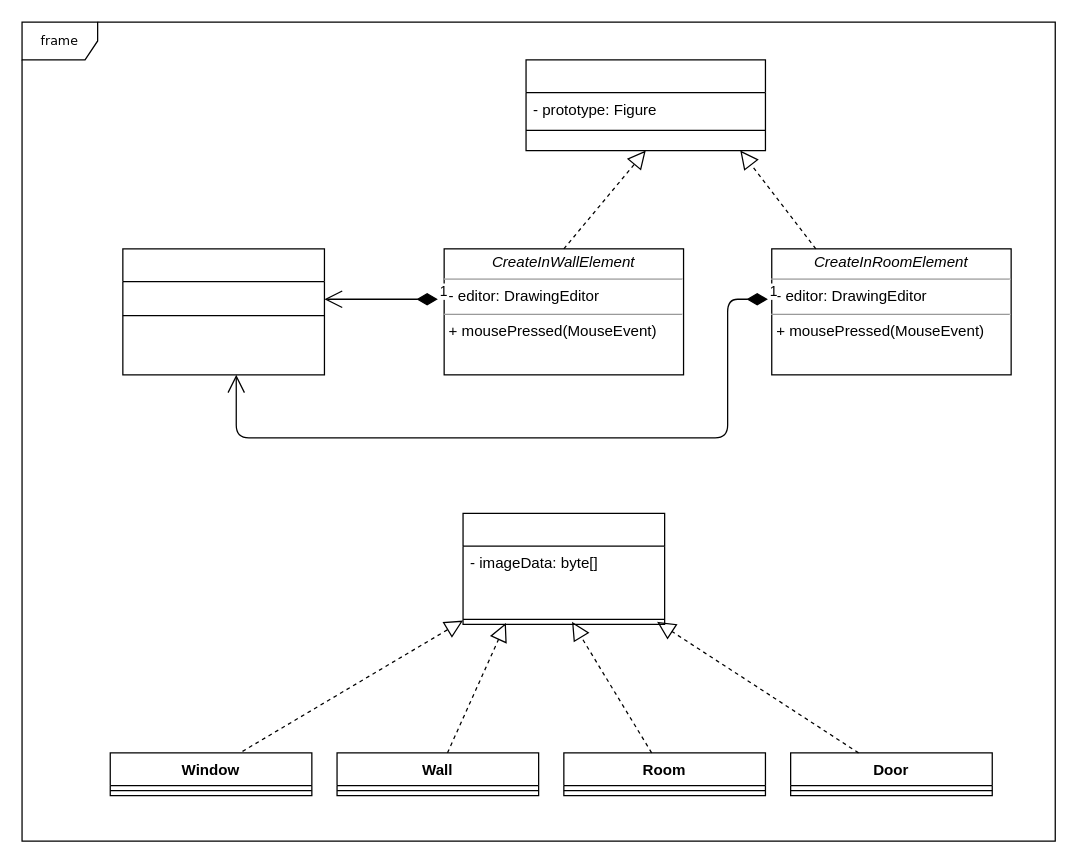
Some shapes in this 1077 by 863 pixel diagram are drawn without their labels. Each missing label, with the box of its shape:
<<Interface>> DrawingEditor: (122, 248, 324, 375)
CreationTool: (525, 59, 765, 151)
ImageFigure: (462, 512, 665, 624)
